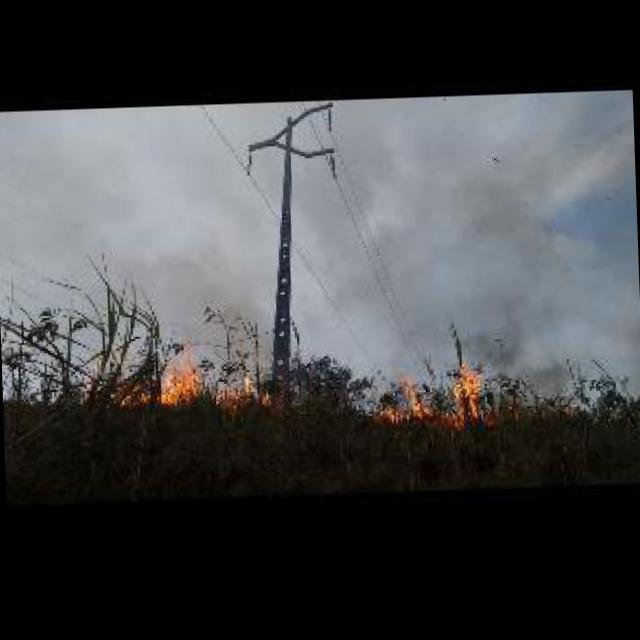fire: (116, 342, 266, 413), (376, 362, 533, 428)
